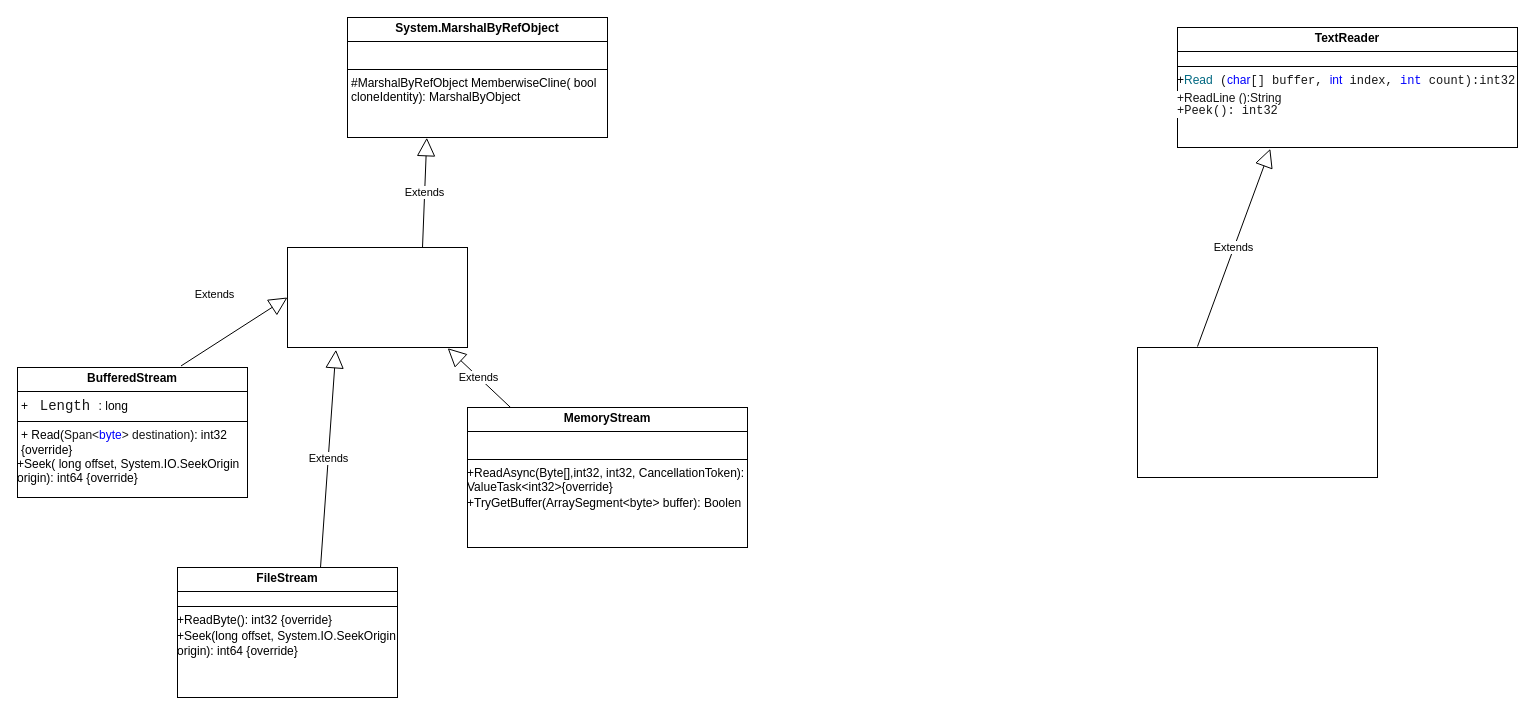
This 1535x715 diagram has some shape labels left out. The centre of each missing label's shape, as x and y in pixels:
"Stream +Read( Byte[], Int32, Int32): int + Write(Byte[], Int32, Int32) : int32" goes at pixel 377 297.
"StringReader + field: Type + method(): Type" goes at pixel 1257 412.
